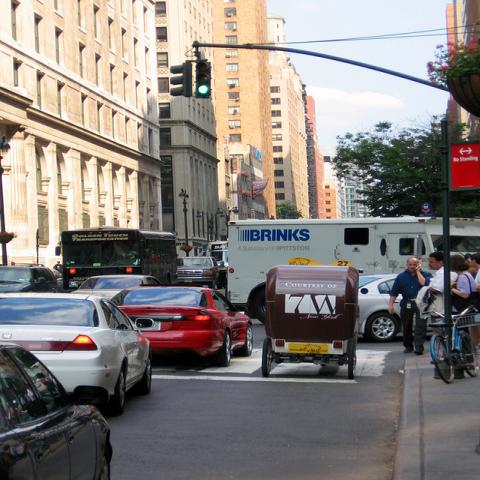bus: (62, 226, 178, 290)
car: (2, 290, 154, 412), (2, 339, 119, 475), (106, 287, 253, 367), (357, 274, 432, 342), (70, 274, 163, 302), (0, 264, 61, 295)
truck: (225, 217, 479, 325), (176, 257, 220, 288)
